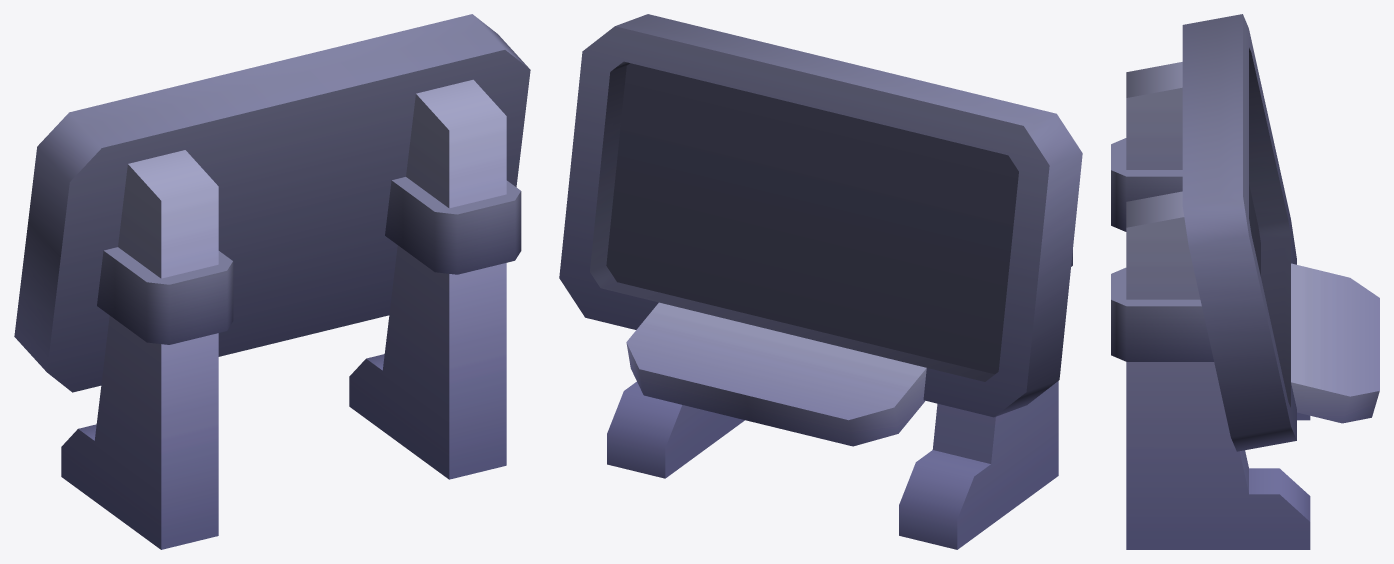
The model's file is screen-panel-wide.glb.
3 renders of one model, left to right at view 1: azimuth 30°, elevation 25°; view 2: azimuth 150°, elevation 25°; view 3: azimuth 270°, elevation 25°, orthographic. The views are drawn at different scales.
Parts seen in each view (by area): view 1: screen-panel-wide; view 2: screen-panel-wide; view 3: screen-panel-wide.
Boxes of the visible parts, bbox=[...] form: screen-panel-wide: bbox=[14, 14, 530, 549]; screen-panel-wide: bbox=[559, 14, 1082, 549]; screen-panel-wide: bbox=[1111, 14, 1379, 549].
Bounding box in the file's own units: 1.2 × 0.9914 × 0.6572.
1 material, 1 textured.
